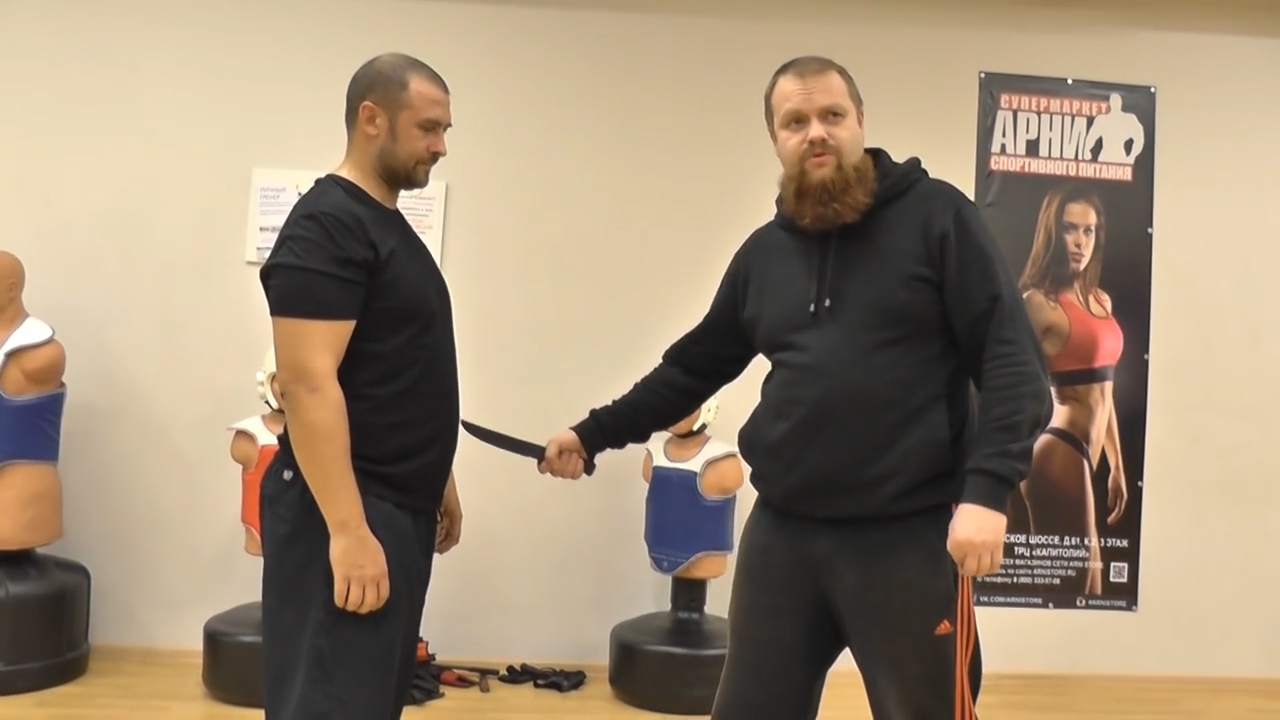knife: (459, 415, 600, 484)
